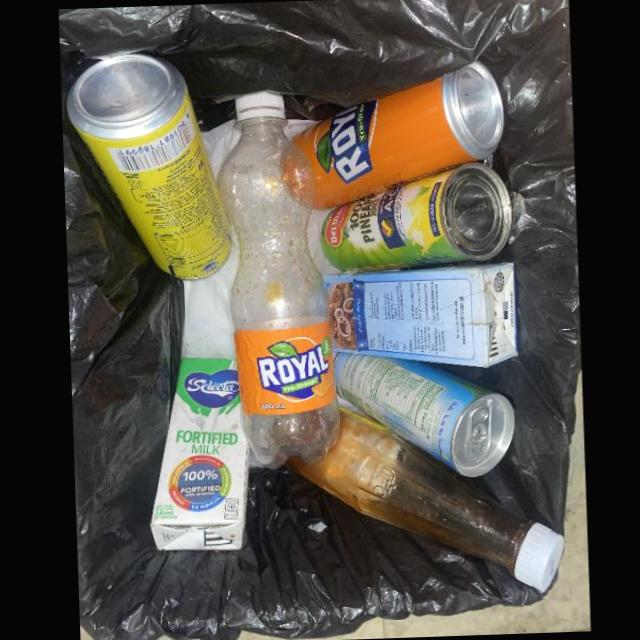chai_nhua_pet: (218, 88, 339, 466)
chai_thuy_tinh: (284, 407, 564, 592)
nhom: (65, 50, 232, 280), (281, 60, 505, 208), (333, 348, 515, 476), (320, 161, 512, 272)
vo_hop_sua: (322, 261, 518, 367), (149, 356, 249, 550)
